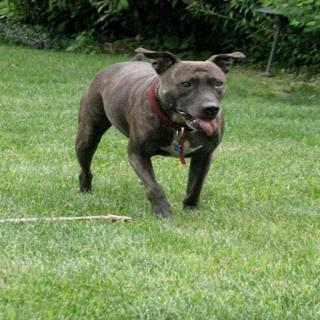dog: (136, 43, 252, 138)
nose: (199, 100, 222, 118)
